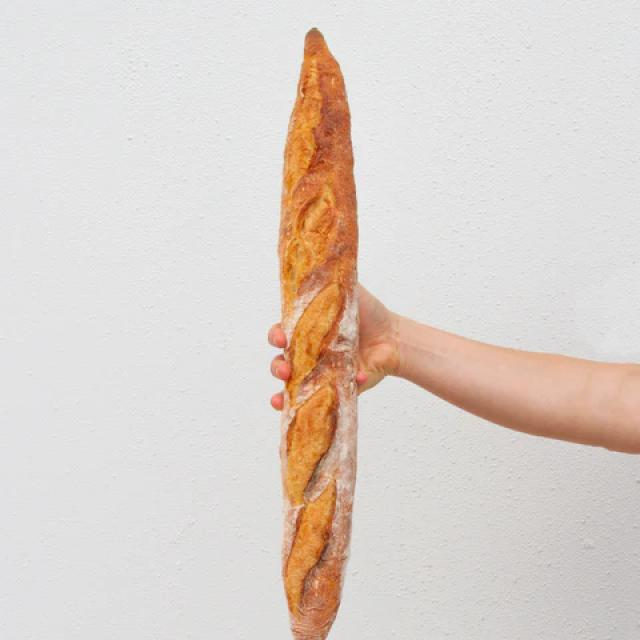Baguette: (276, 29, 360, 639)
